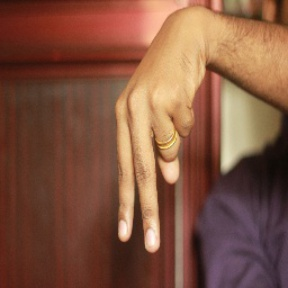Y: (107, 77, 197, 253)
